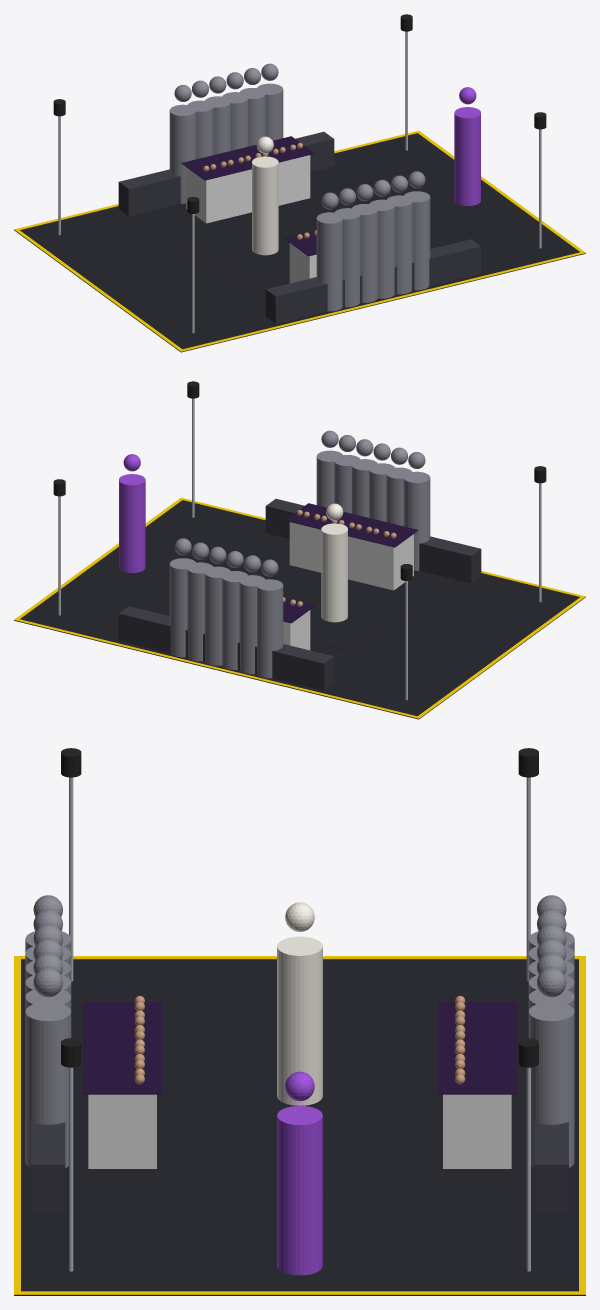
The model's file is G10_THE_HIDDEN_RING.obj.
3 views of the same model, one above another, from view 1: azimuth 30°, elevation 25°; view 2: azimuth 150°, elevation 25°; view 3: azimuth 270°, elevation 25° (orthographic). The views are drawn at different scales.
Parts seen in each view (by area): view 1: floor_area, finder_lane, table_1, operator_body, finder_body, bench_-1_-0.45, player_-1_0_body, bench_1_-0.45, bench_-1_0.45, velvet_cloth_1, player_1_0_body, player_-1_5_body (+16 smaller); view 2: floor_area, finder_lane, table_-1, operator_body, finder_body, bench_1_-0.45, player_1_0_body, bench_-1_-0.45, bench_1_0.45, velvet_cloth_-1, player_-1_0_body, player_1_5_body (+16 smaller); view 3: floor_area, finder_lane, operator_body, finder_body, velvet_cloth_-1, velvet_cloth_1, player_-1_5_body, player_1_5_body, table_-1, table_1, bench_-1_0.45, bench_1_0.45 (+12 smaller).
Part boxes in pixels (x1=…): floor_area: x1=14, y1=133, x2=585, y2=352; finder_lane: x1=181, y1=198, x2=364, y2=285; table_1: x1=186, y1=155, x2=310, y2=223; operator_body: x1=454, y1=107, x2=480, y2=205; finder_body: x1=252, y1=156, x2=278, y2=255; bench_-1_-0.45: x1=265, y1=275, x2=362, y2=323; player_-1_0_body: x1=316, y1=212, x2=342, y2=311; bench_1_-0.45: x1=118, y1=169, x2=180, y2=216; bench_-1_0.45: x1=394, y1=239, x2=481, y2=294; velvet_cloth_1: x1=181, y1=136, x2=314, y2=180; player_1_0_body: x1=169, y1=104, x2=196, y2=203; player_-1_5_body: x1=404, y1=191, x2=430, y2=290; floor_area: x1=14, y1=500, x2=585, y2=719; finder_lane: x1=235, y1=565, x2=418, y2=652; table_-1: x1=289, y1=522, x2=413, y2=590; operator_body: x1=119, y1=474, x2=145, y2=572; finder_body: x1=321, y1=523, x2=347, y2=622; bench_1_-0.45: x1=237, y1=642, x2=334, y2=690; player_1_0_body: x1=257, y1=579, x2=283, y2=678; bench_-1_-0.45: x1=419, y1=536, x2=481, y2=583; bench_1_0.45: x1=118, y1=606, x2=205, y2=661; velvet_cloth_-1: x1=285, y1=503, x2=418, y2=547; player_-1_0_body: x1=403, y1=471, x2=430, y2=570; player_1_5_body: x1=169, y1=558, x2=195, y2=657; floor_area: x1=14, y1=959, x2=585, y2=1295; finder_lane: x1=191, y1=1052, x2=408, y2=1197; operator_body: x1=277, y1=1106, x2=322, y2=1275; finder_body: x1=277, y1=936, x2=322, y2=1105; velvet_cloth_-1: x1=82, y1=1002, x2=162, y2=1094; velvet_cloth_1: x1=437, y1=1002, x2=517, y2=1094; player_-1_5_body: x1=25, y1=1002, x2=71, y2=1167; player_1_5_body: x1=528, y1=1002, x2=574, y2=1167; table_-1: x1=88, y1=1094, x2=156, y2=1168; table_1: x1=443, y1=1094, x2=511, y2=1168; bench_-1_0.45: x1=31, y1=1121, x2=65, y2=1211; bench_1_0.45: x1=534, y1=1121, x2=568, y2=1211.
Bounding box in the file's own units: 7 × 2.21 × 5.
